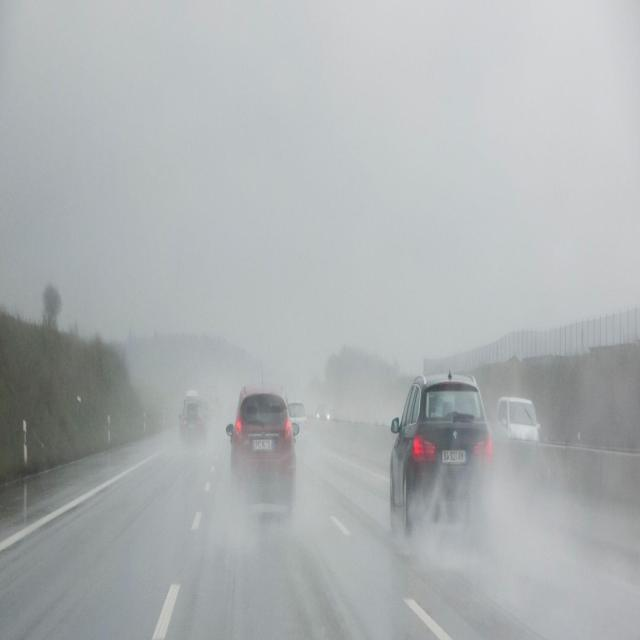Car: (390, 370, 494, 542), (225, 382, 299, 520), (494, 391, 540, 443), (178, 398, 208, 452), (285, 394, 308, 460)
